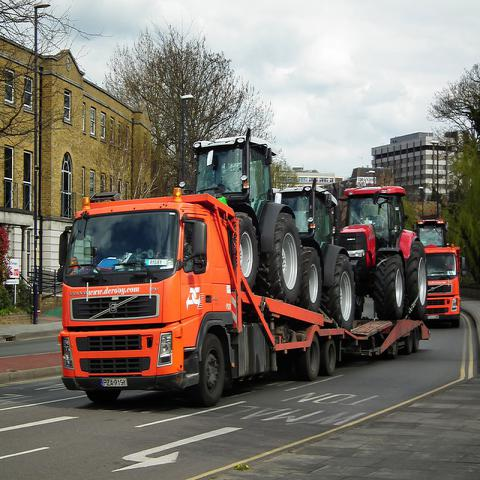truck: (60, 137, 433, 409), (430, 244, 460, 328)
